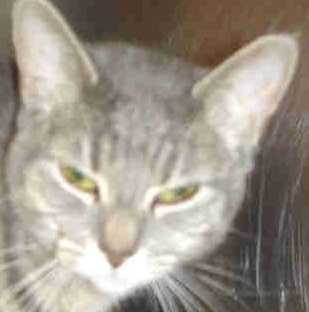Cat: (7, 0, 284, 299)
